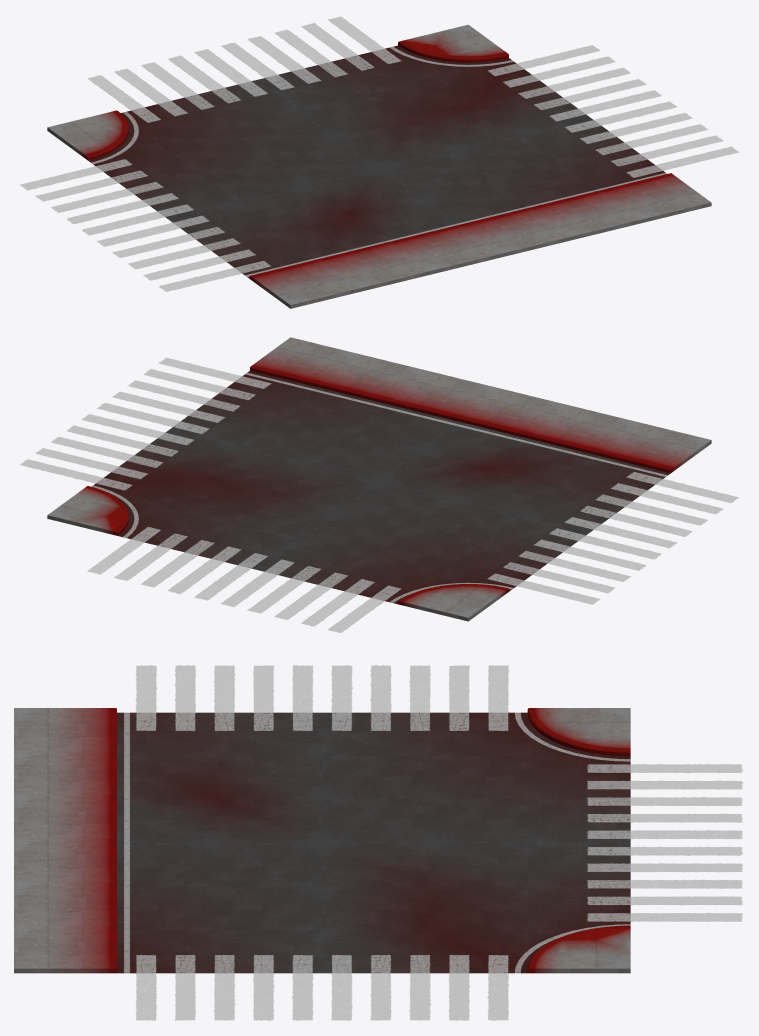
The model's file is q-downtown-street-tintersection.glb.
3 views of the same model, one above another, from view 1: azimuth 30°, elevation 25°; view 2: azimuth 150°, elevation 25°; view 3: azimuth 270°, elevation 25° (orthographic). The views are drawn at different scales.
Visible parts, largest first — view 1: Street_TIntersection; view 2: Street_TIntersection; view 3: Street_TIntersection.
Boxes of the visible parts, bbox=[...] form: Street_TIntersection: bbox=[20, 16, 738, 308]; Street_TIntersection: bbox=[20, 337, 738, 632]; Street_TIntersection: bbox=[14, 665, 742, 1020].
Size of the model in its own units: 24.67 by 0.15 by 21.33.
3 materials, 3 textured.
